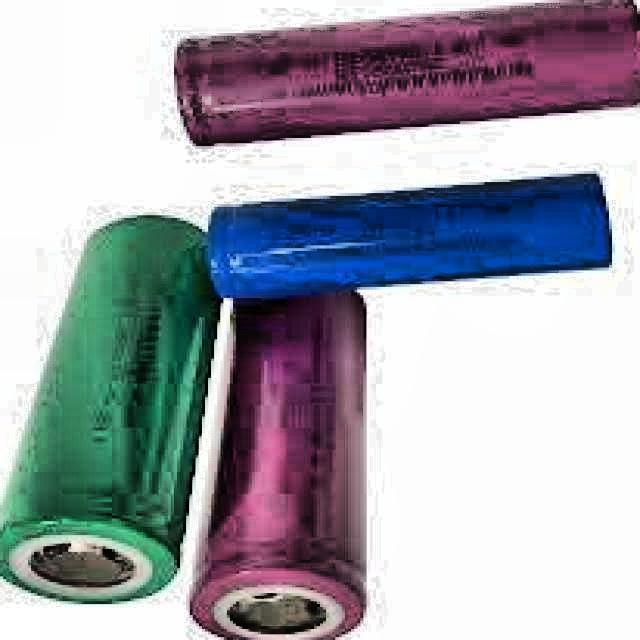battery: (0, 218, 217, 604), (174, 0, 640, 146), (193, 295, 360, 640), (208, 177, 609, 298)
